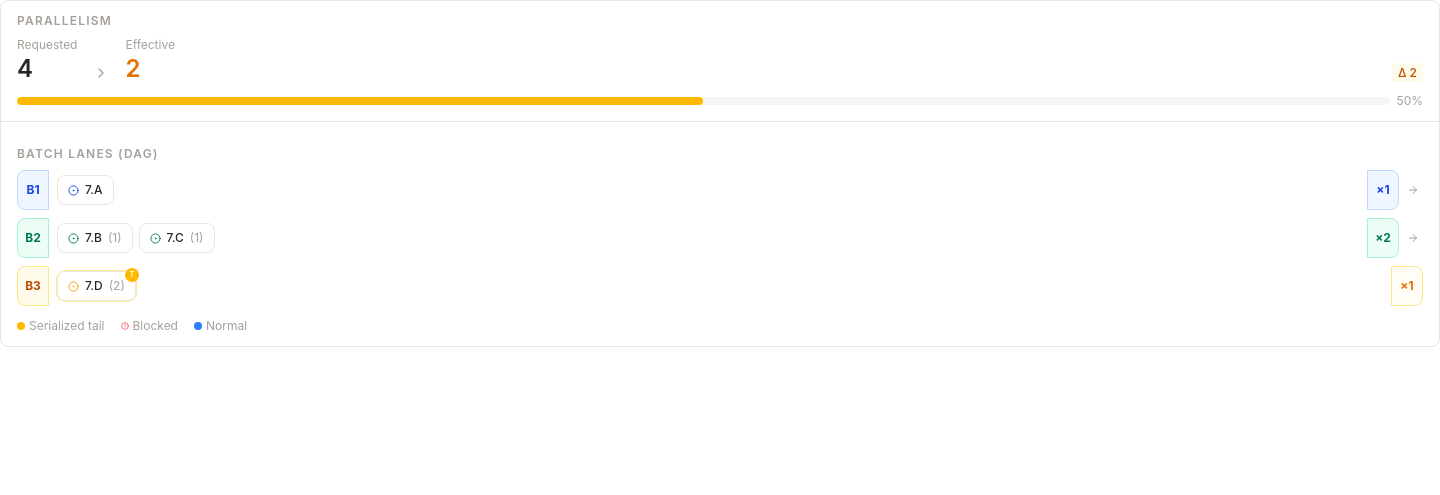
it: AC 3: Allows dependency editing with preview-before-save › shows dependency editor when a workspace is selected
// Click on workspace 7.D
Click the text "7.D": (94, 286) left=85, top=278, right=103, bottom=294
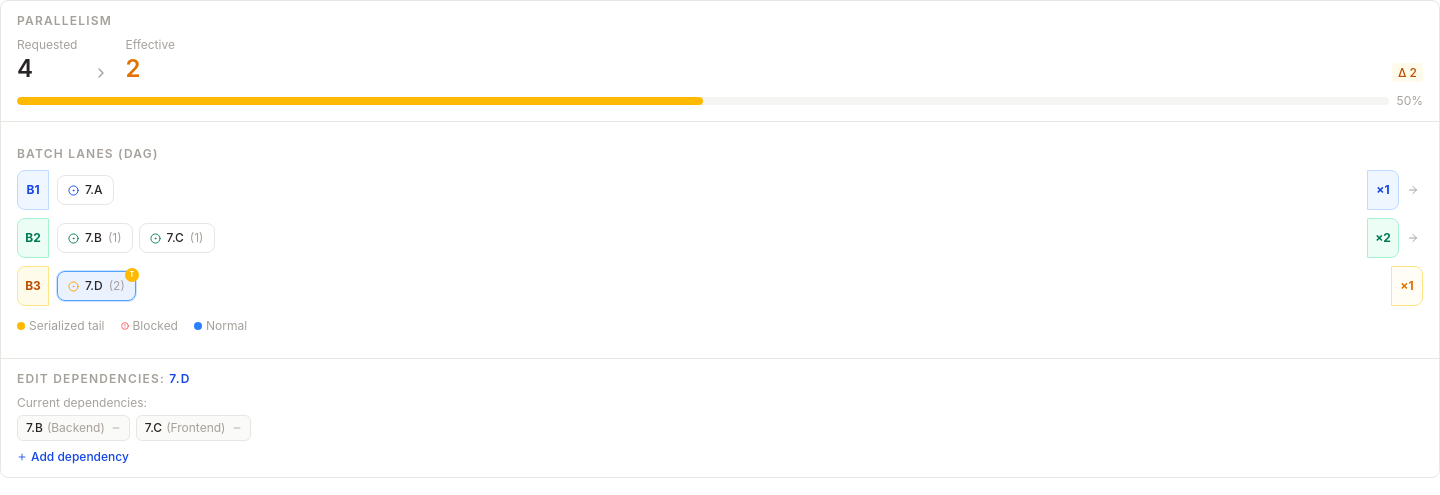
Expected: the heading "Edit dependencies: 7.D" is shown, left=17, top=371, right=191, bottom=386
